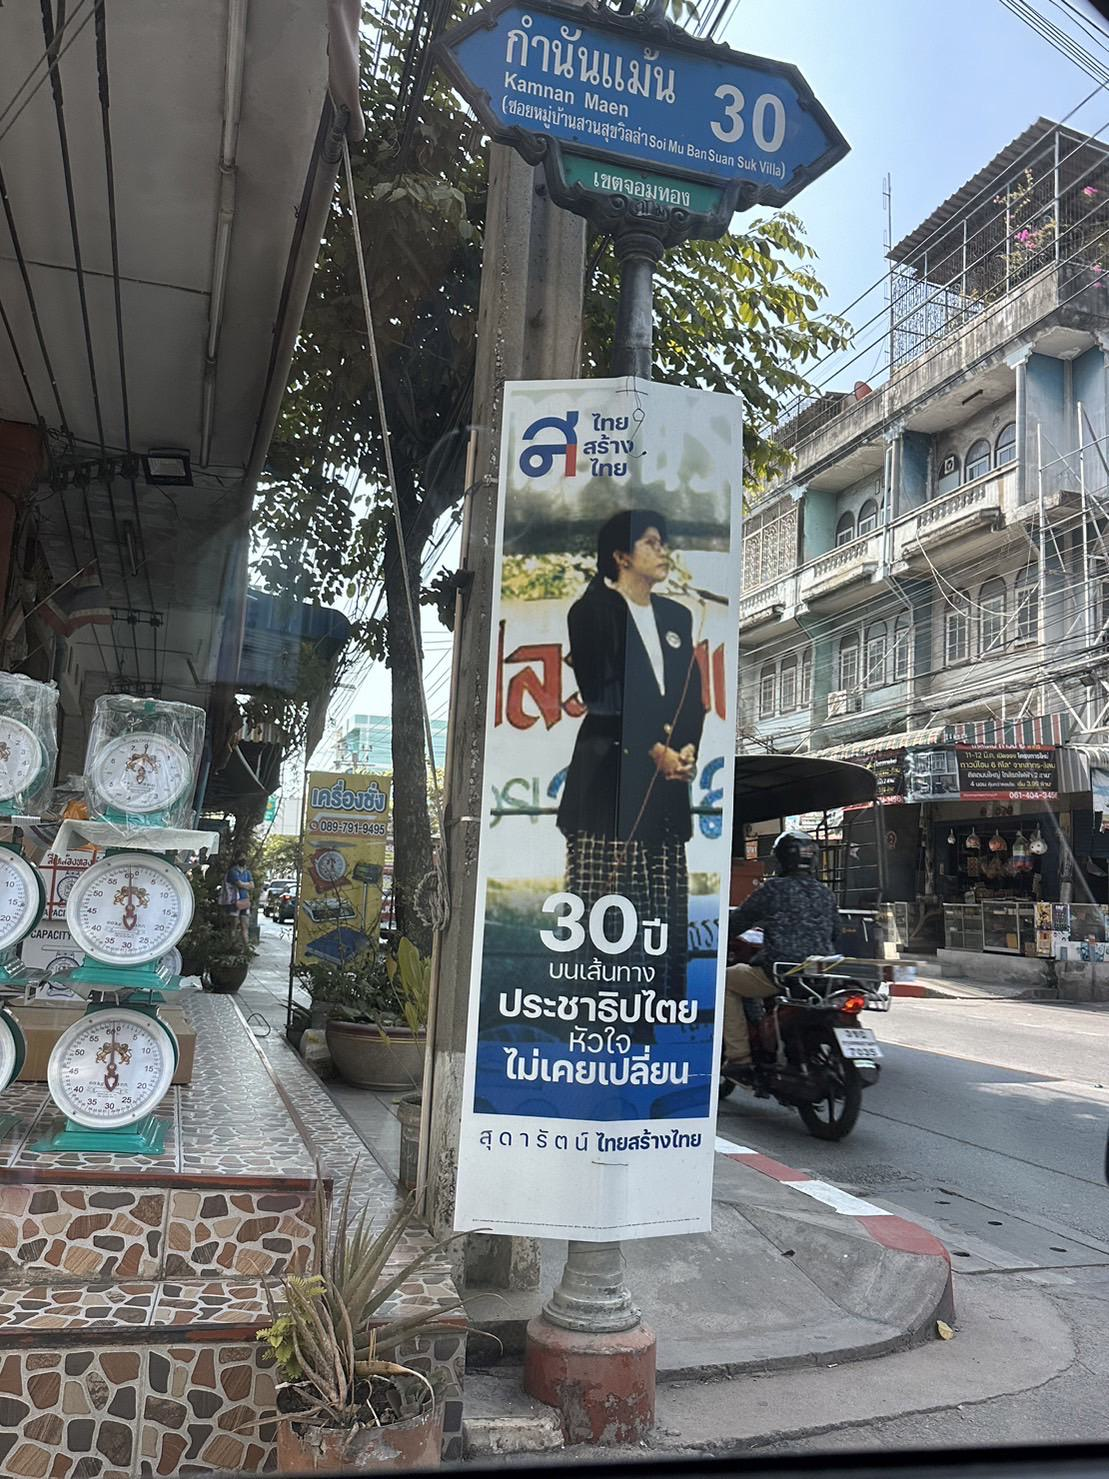Banner: (435, 382, 754, 1252)
